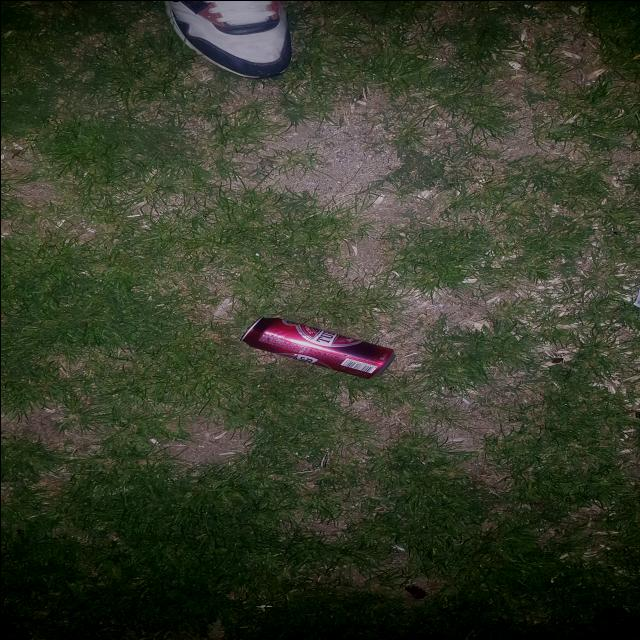Drink can: (239, 316, 395, 378)
